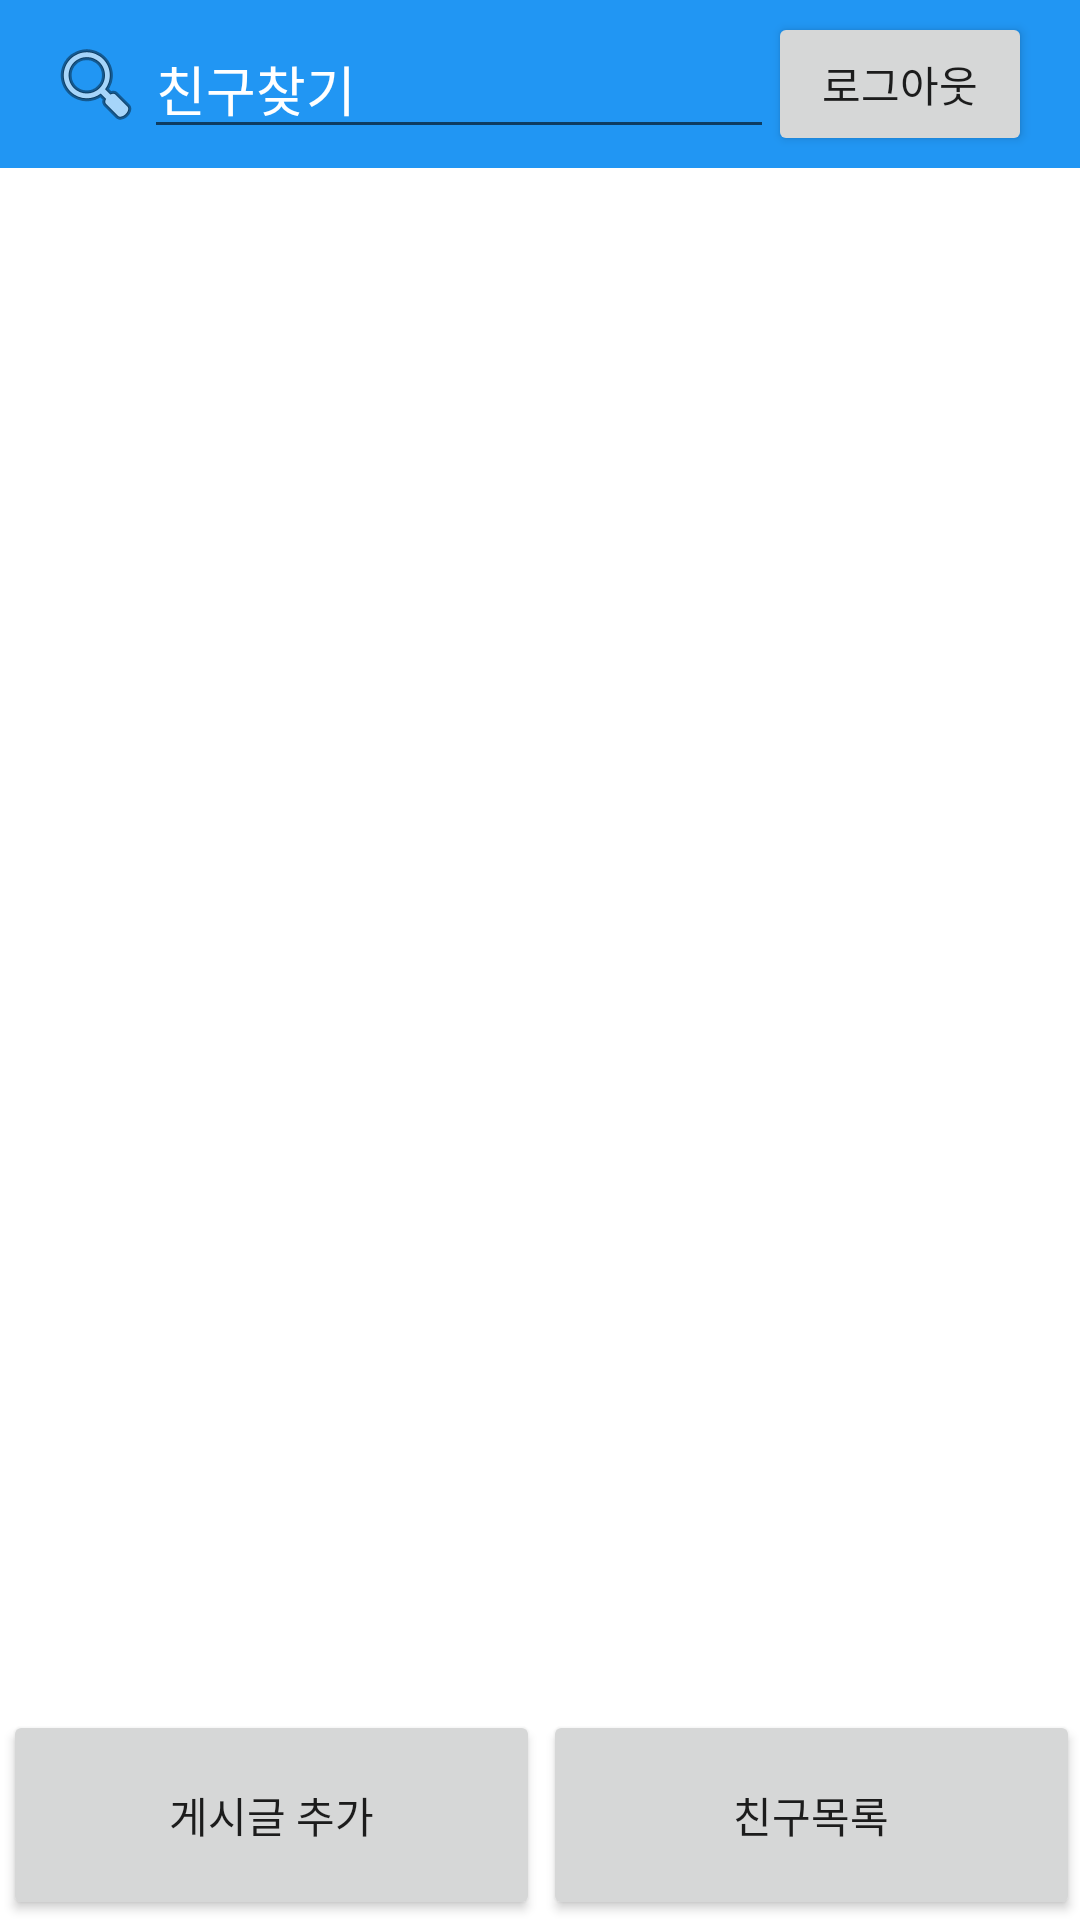

Where icons sit on this 1080*1920 app screen, as (x1, y1, x2, y2):
search: (60, 49, 132, 120)
